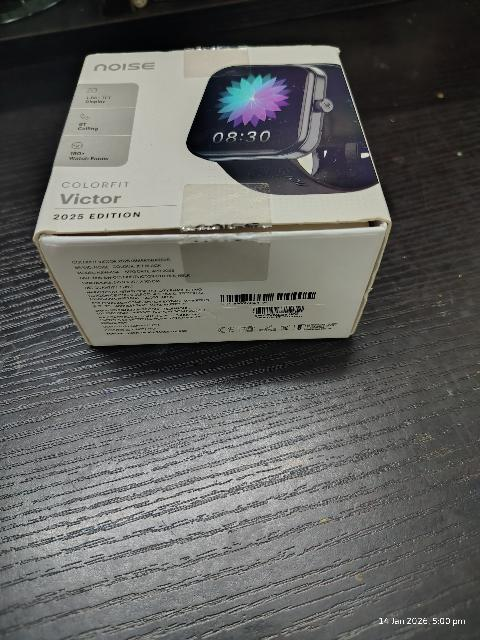noise victor smartwatch: (59, 52, 383, 346)
